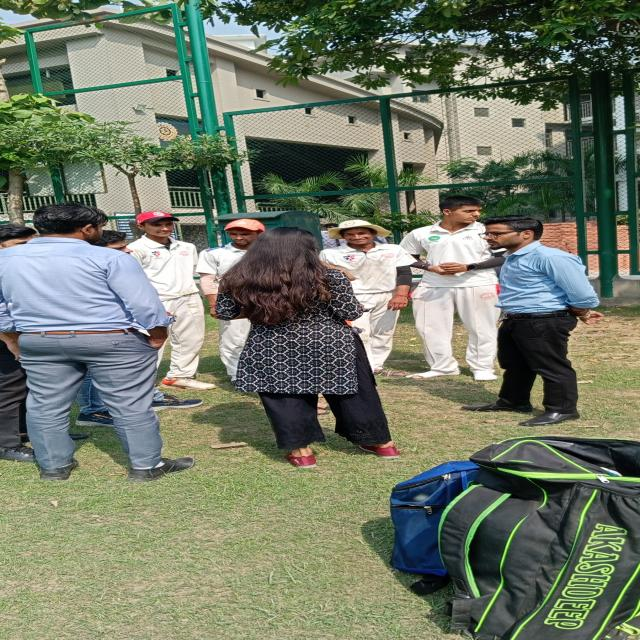unsafe: (4, 201, 195, 486), (225, 230, 396, 468), (479, 216, 599, 424), (404, 196, 511, 383), (132, 212, 215, 394), (322, 219, 414, 378), (201, 220, 268, 386)
